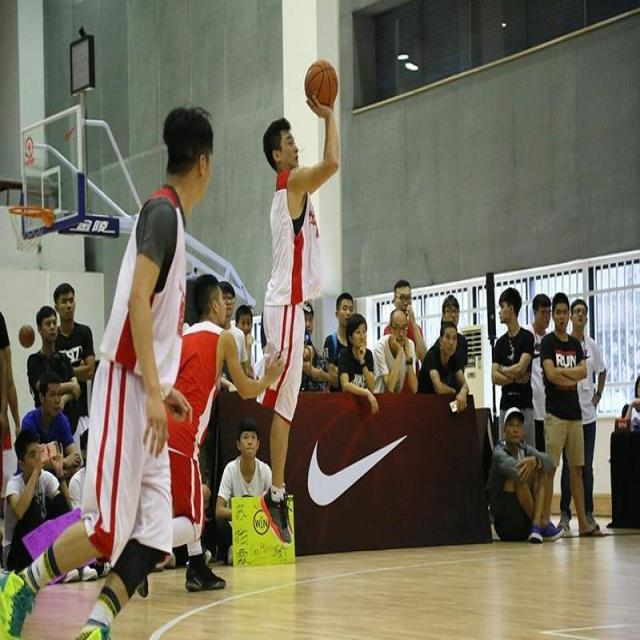basketball: (304, 58, 338, 109), (18, 323, 36, 348)
hoop: (8, 205, 55, 255)
